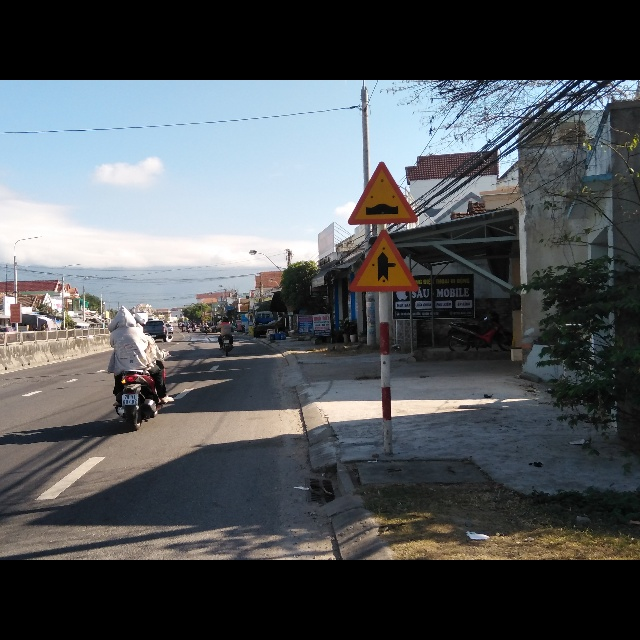Giao nhau với đường không ưu tiên: (345, 229, 424, 294)
Đường không bằng phẳng: (347, 159, 418, 226)
